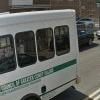buses: (0, 10, 85, 100)
